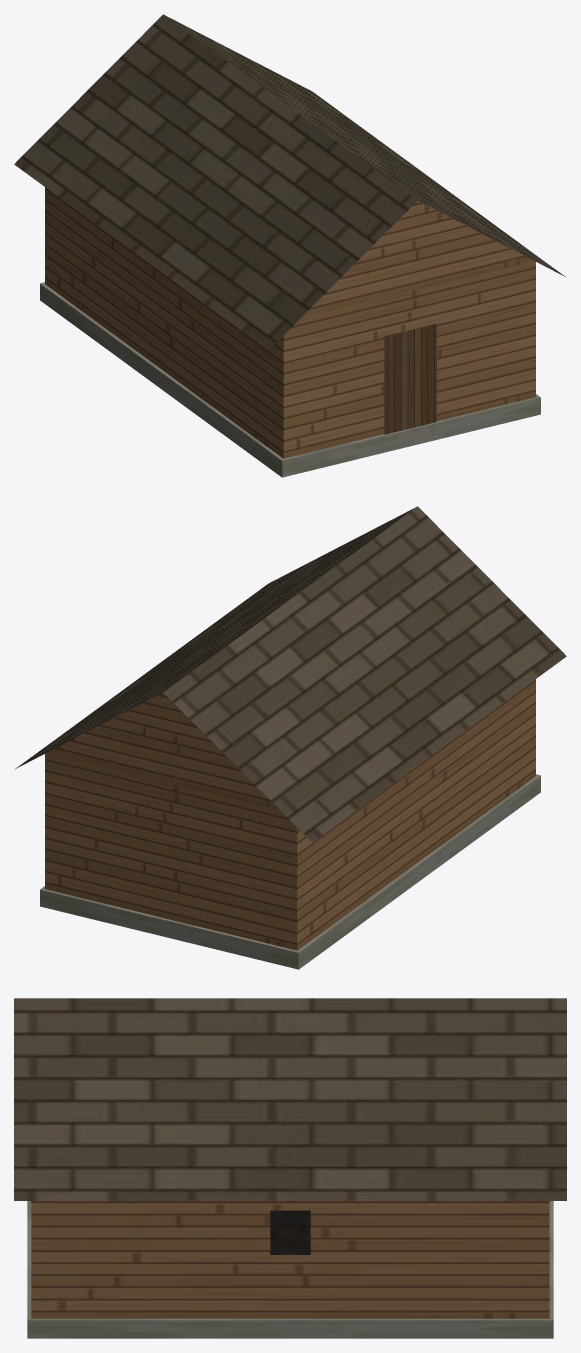
File: ae_forest_wood_large_hall_lod2.glb
3 renders of one model, top to bottom at view 1: azimuth 30°, elevation 25°; view 2: azimuth 150°, elevation 25°; view 3: azimuth 270°, elevation 25°, orthographic. The views are drawn at different scales.
Visible parts, largest first — view 1: ae_forest_wood_large_hall_lod2; view 2: ae_forest_wood_large_hall_lod2; view 3: ae_forest_wood_large_hall_lod2.
Boxes of the visible parts, x1,y1,x2,y2 form: ae_forest_wood_large_hall_lod2: (14,14,565,477); ae_forest_wood_large_hall_lod2: (15,506,566,969); ae_forest_wood_large_hall_lod2: (14,998,566,1338).
Size of the model in its own units: 6.5 by 5.2 by 9.6.
Materials: 1 (1 with a texture image).
